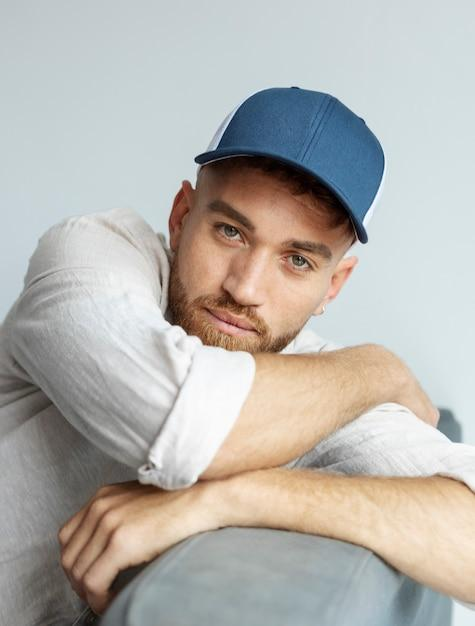cap: (188, 78, 392, 248)
